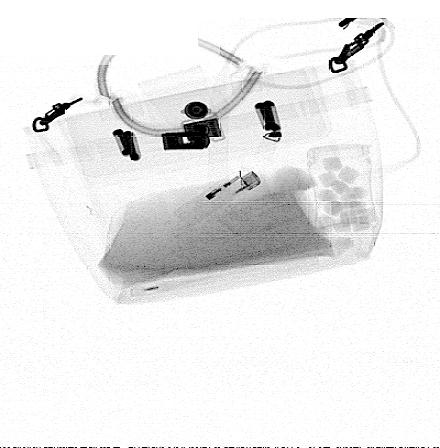Lighter: (175, 167, 261, 228)
